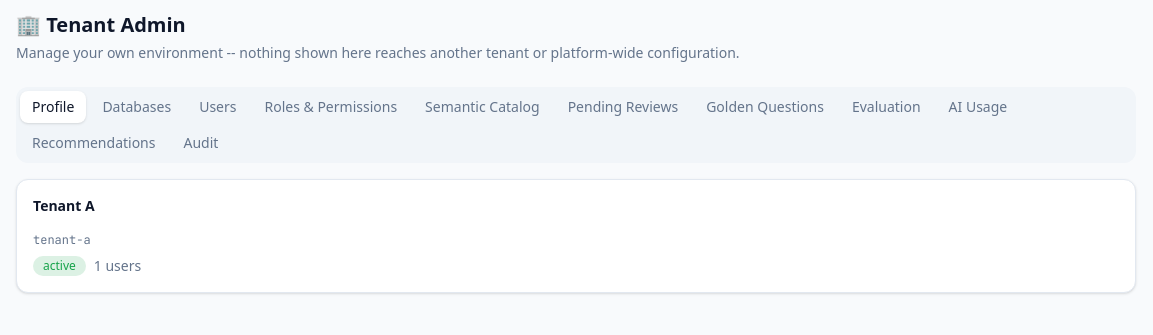
Test: TenantAdmin › shows pending review counts and links to the real review pages
Click the tab "Pending Reviews" at (623, 107), box top-left (556, 91), bottom-right (690, 123)
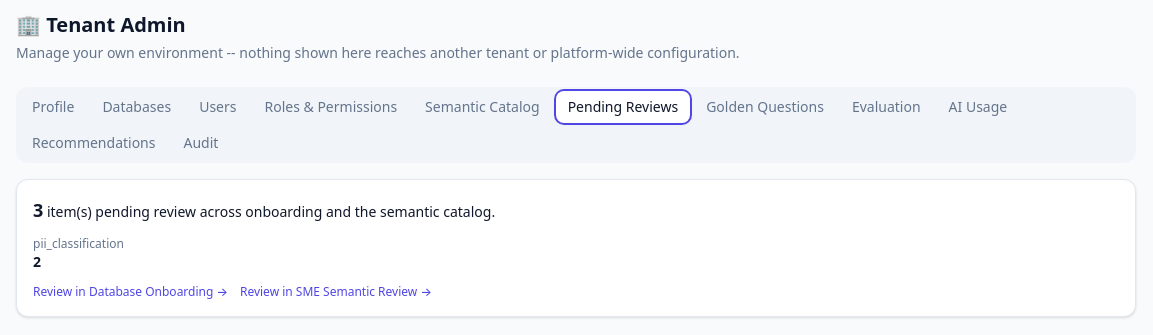
Expected: the text "3" is shown, top-left (33, 198), bottom-right (43, 222)
Expected: the link "Review in Database Onboarding →" is shown, top-left (33, 284), bottom-right (228, 300)
Expected: the link "Review in SME Semantic Review →" is shown, top-left (240, 284), bottom-right (432, 300)
